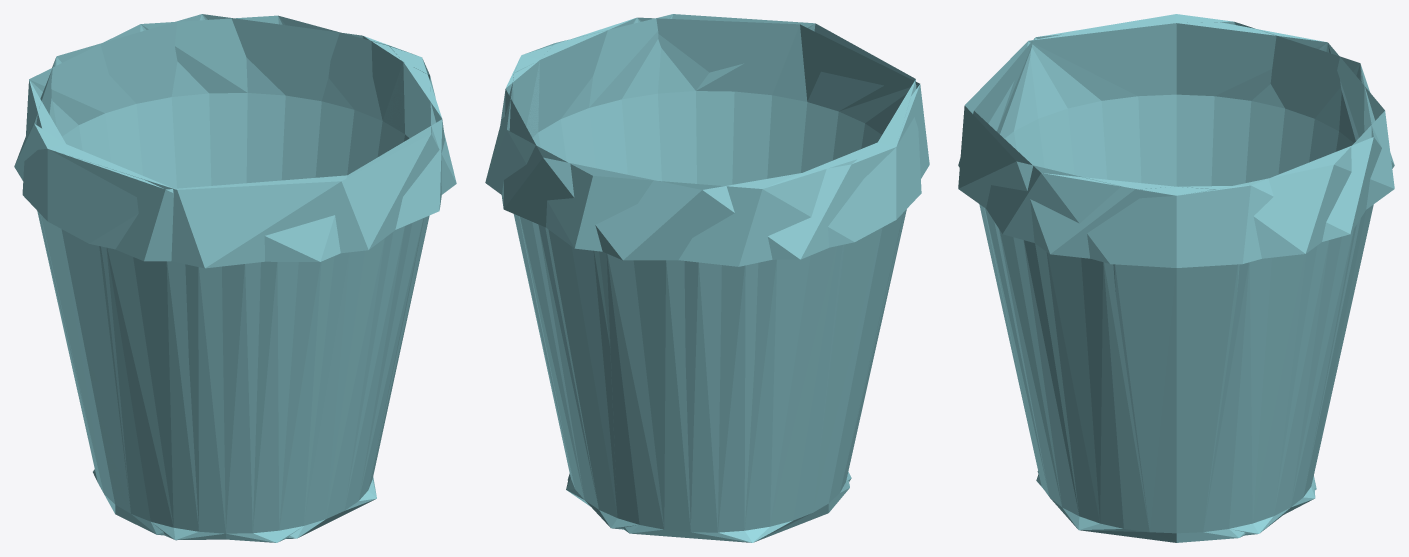
File: mysorka.fbx
3 views of the same model, side by side, from view 1: azimuth 30°, elevation 25°; view 2: azimuth 150°, elevation 25°; view 3: azimuth 270°, elevation 25° (orthographic).
Parts seen in each view (by area): view 1: Circle; view 2: Circle; view 3: Circle.
Boxes of the visible parts, x1=… form: Circle: x1=14, y1=14, x2=456, y2=542; Circle: x1=485, y1=14, x2=929, y2=542; Circle: x1=958, y1=14, x2=1394, y2=542.
Size of the model in its own units: 323 by 315 by 327.
